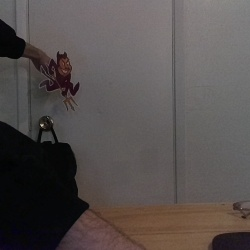sparky: (37, 49, 81, 112)
